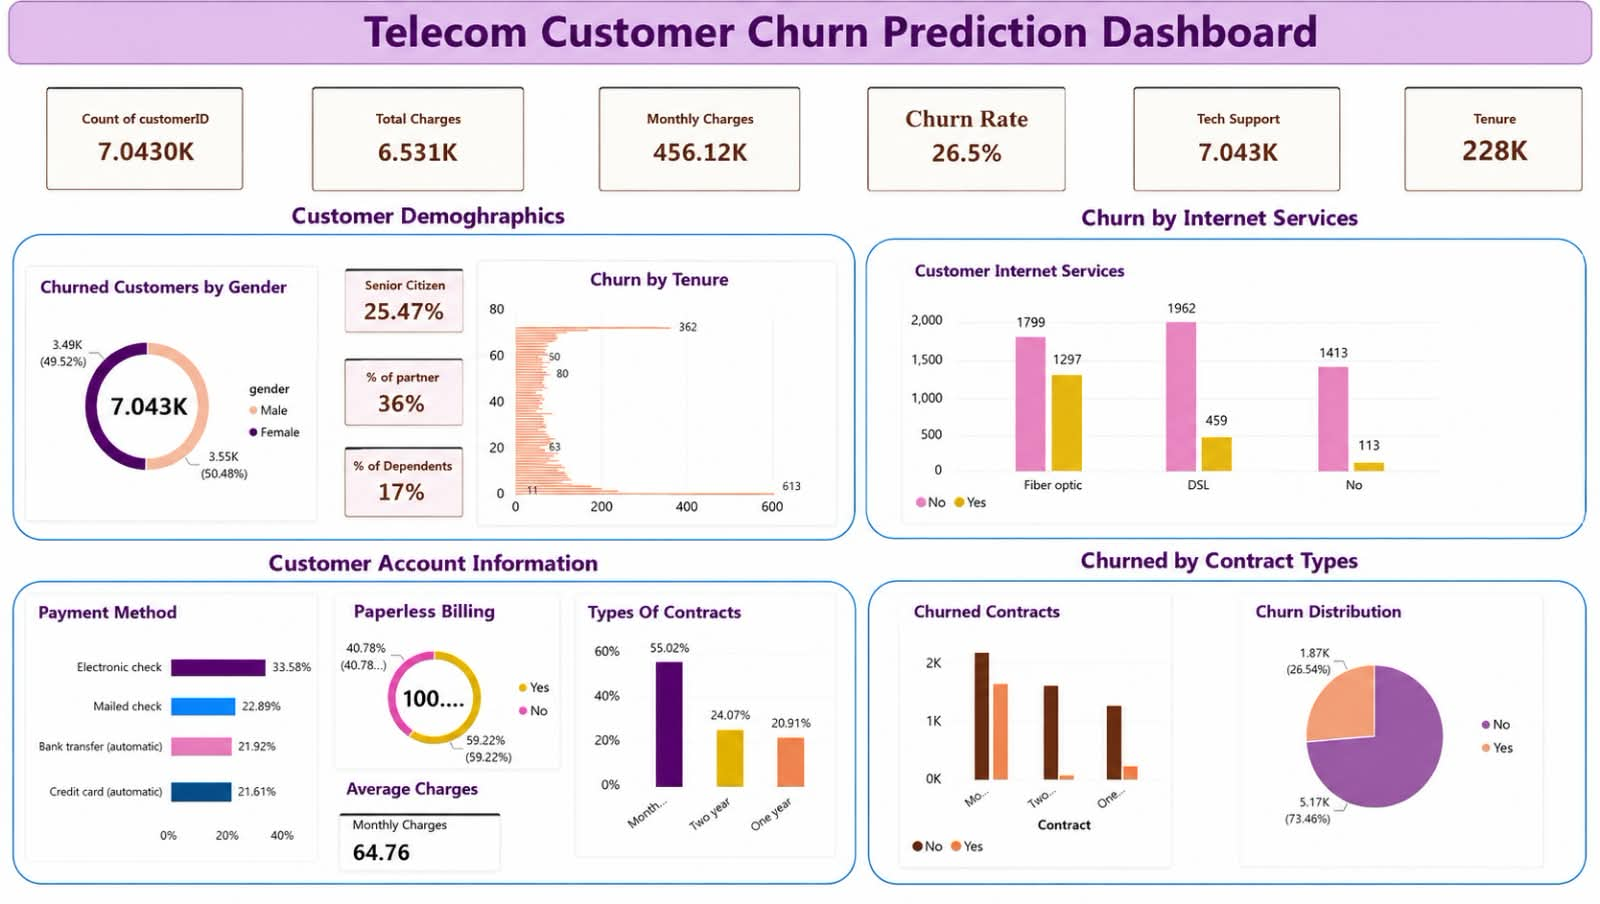

The page's visual inventory and layout, read from the dashboard file:
{"tool":"powerbi","page":{"name":"Page 1","canvas":[1920,1080],"ordinal":0},"visuals":[{"type":"textbox","box":[0,0,1920.4,78.2],"z":0},{"type":"shape","title":"Customer Demoghraphics","box":[1.7,268.3,1006.7,410],"z":1000},{"type":"donutChart","title":"Churned Customers by Gender","fields":{"Category":["telecom.gender"],"Y":["CountNonNull(telecom.customerID)"]},"box":[30,358.3,335,280],"z":2000},{"type":"cardVisual","fields":{"Data":["Churn.Senior Citizen"]},"box":[400,358.3,142.9,70],"z":3000},{"type":"cardVisual","fields":{"Data":["Churn.% of partner"]},"box":[396.7,458.3,142.9,78.6],"z":4000},{"type":"cardVisual","fields":{"Data":["Churn.% of Dependents"]},"box":[396.7,560,142.9,78.6],"z":5000},{"type":"clusteredBarChart","title":"Churn by Tenure","fields":{"Category":["Churn.tenure"],"Y":["CountNonNull(Churn.Churn)"]},"box":[558,342,414,314],"z":6000},{"type":"shape","title":"Customer Account Information","box":[1.7,690,1006.7,390],"z":7000},{"type":"barChart","title":"Payment Method","fields":{"Category":["Churn.PaymentMethod"],"Y":["CountNonNull(Churn.PaymentMethod)"]},"box":[20,750,353.3,300],"z":8000},{"type":"donutChart","title":"Paperless Billing","fields":{"Category":["Churn.PaperlessBilling"],"Y":["Divide(CountNonNull(Churn.PaperlessBilling), ScopedEval(CountNonNull(Churn.PaperlessBilling), []))"]},"box":[396.7,743.3,258.3,215],"z":9000},{"type":"cardVisual","title":"Average  Charges","fields":{"Data":["Avg(Churn.MonthlyCharges)"]},"box":[400,972,168,90],"z":10000},{"type":"columnChart","title":"Types Of Contracts","fields":{"Category":["Churn.Contract"],"Y":["Divide(CountNonNull(Churn.Contract), ScopedEval(CountNonNull(Churn.Contract), []))"]},"box":[675,743.3,293.3,285],"z":11000},{"type":"shape","title":"Churn by Internet Services","box":[1008.3,275,891.7,403.3],"z":12000},{"type":"clusteredColumnChart","title":"Customer Internet Services","fields":{"Category":["Churn.InternetService"],"Series":["Churn.Churn"],"Y":["CountNonNull(Churn.customerID)"]},"box":[1082.2,344.8,620,306.7],"z":13000},{"type":"shape","title":"Churned by Contract Types","box":[1010,676.7,891.7,403.3],"z":14000},{"type":"clusteredColumnChart","title":"Churned Contracts","fields":{"Category":["Churn.Contract"],"Series":["Churn.Churn"],"Y":["CountNonNull(Churn.customerID)"]},"box":[1076,738,315,323.3],"z":15000},{"type":"pieChart","title":"Churn Distribution","fields":{"Category":["Churn.Churn"],"Y":["CountNonNull(Churn.customerID)"]},"box":[1484,738,325,300],"z":16000},{"type":"cardVisual","fields":{"Data":["Count(Churn.customerID)"]},"box":[52,110,232,142],"z":17000},{"type":"cardVisual","fields":{"Data":["Count(Churn.TotalCharges)"]},"box":[374,114,232,142],"z":18000},{"type":"cardVisual","fields":{"Data":["Sum(Churn.MonthlyCharges)"]},"box":[706,114,232,142],"z":19000},{"type":"cardVisual","fields":{"Data":["Churn.Churn Rate"]},"box":[1028,114,232,142],"z":20000},{"type":"cardVisual","fields":{"Data":["CountNonNull(Churn.TechSupport)"]},"box":[1354,114,232,142],"z":21000},{"type":"cardVisual","fields":{"Data":["Sum(Churn.tenure)"]},"box":[1668,114,232,142],"z":22000}]}

Visuals, with their boxes in screenshot pixels (x1, y1, x2, y2), scaled from the page's 1920x1080 canvas onto the 1600x904 screenshot:
textbox: bbox=(0, 0, 1599, 65)
"Customer Demoghraphics" shape: bbox=(1, 225, 840, 568)
"Churned Customers by Gender" donutChart: bbox=(25, 300, 304, 534)
cardVisual - Churn.Senior Citizen: bbox=(333, 300, 452, 359)
cardVisual - Churn.% of partner: bbox=(331, 384, 450, 449)
cardVisual - Churn.% of Dependents: bbox=(331, 469, 450, 535)
"Churn by Tenure" clusteredBarChart: bbox=(465, 286, 810, 549)
"Customer Account Information" shape: bbox=(1, 578, 840, 903)
"Payment Method" barChart: bbox=(17, 628, 311, 879)
"Paperless Billing" donutChart: bbox=(331, 622, 546, 802)
"Average  Charges" cardVisual: bbox=(333, 814, 473, 889)
"Types Of Contracts" columnChart: bbox=(562, 622, 807, 861)
"Churn by Internet Services" shape: bbox=(840, 230, 1583, 568)
"Customer Internet Services" clusteredColumnChart: bbox=(902, 289, 1418, 545)
"Churned by Contract Types" shape: bbox=(842, 566, 1585, 903)
"Churned Contracts" clusteredColumnChart: bbox=(897, 618, 1159, 888)
"Churn Distribution" pieChart: bbox=(1237, 618, 1508, 869)
cardVisual - Count(Churn.customerID): bbox=(43, 92, 237, 211)
cardVisual - Count(Churn.TotalCharges): bbox=(312, 95, 505, 214)
cardVisual - Sum(Churn.MonthlyCharges): bbox=(588, 95, 782, 214)
cardVisual - Churn.Churn Rate: bbox=(857, 95, 1050, 214)
cardVisual - CountNonNull(Churn.TechSupport): bbox=(1128, 95, 1322, 214)
cardVisual - Sum(Churn.tenure): bbox=(1390, 95, 1583, 214)
